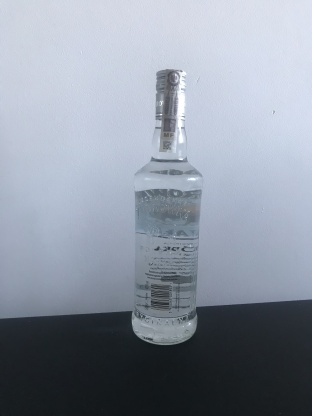nakretka: (152, 63, 188, 123)
